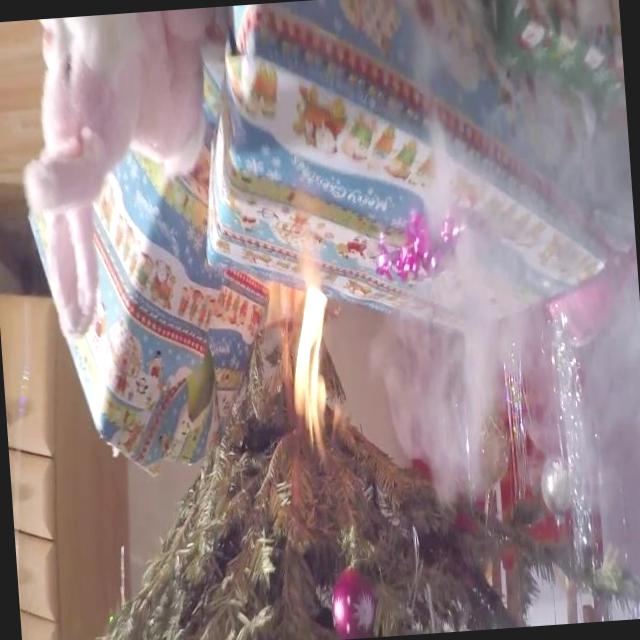smoke: (435, 135, 640, 432)
